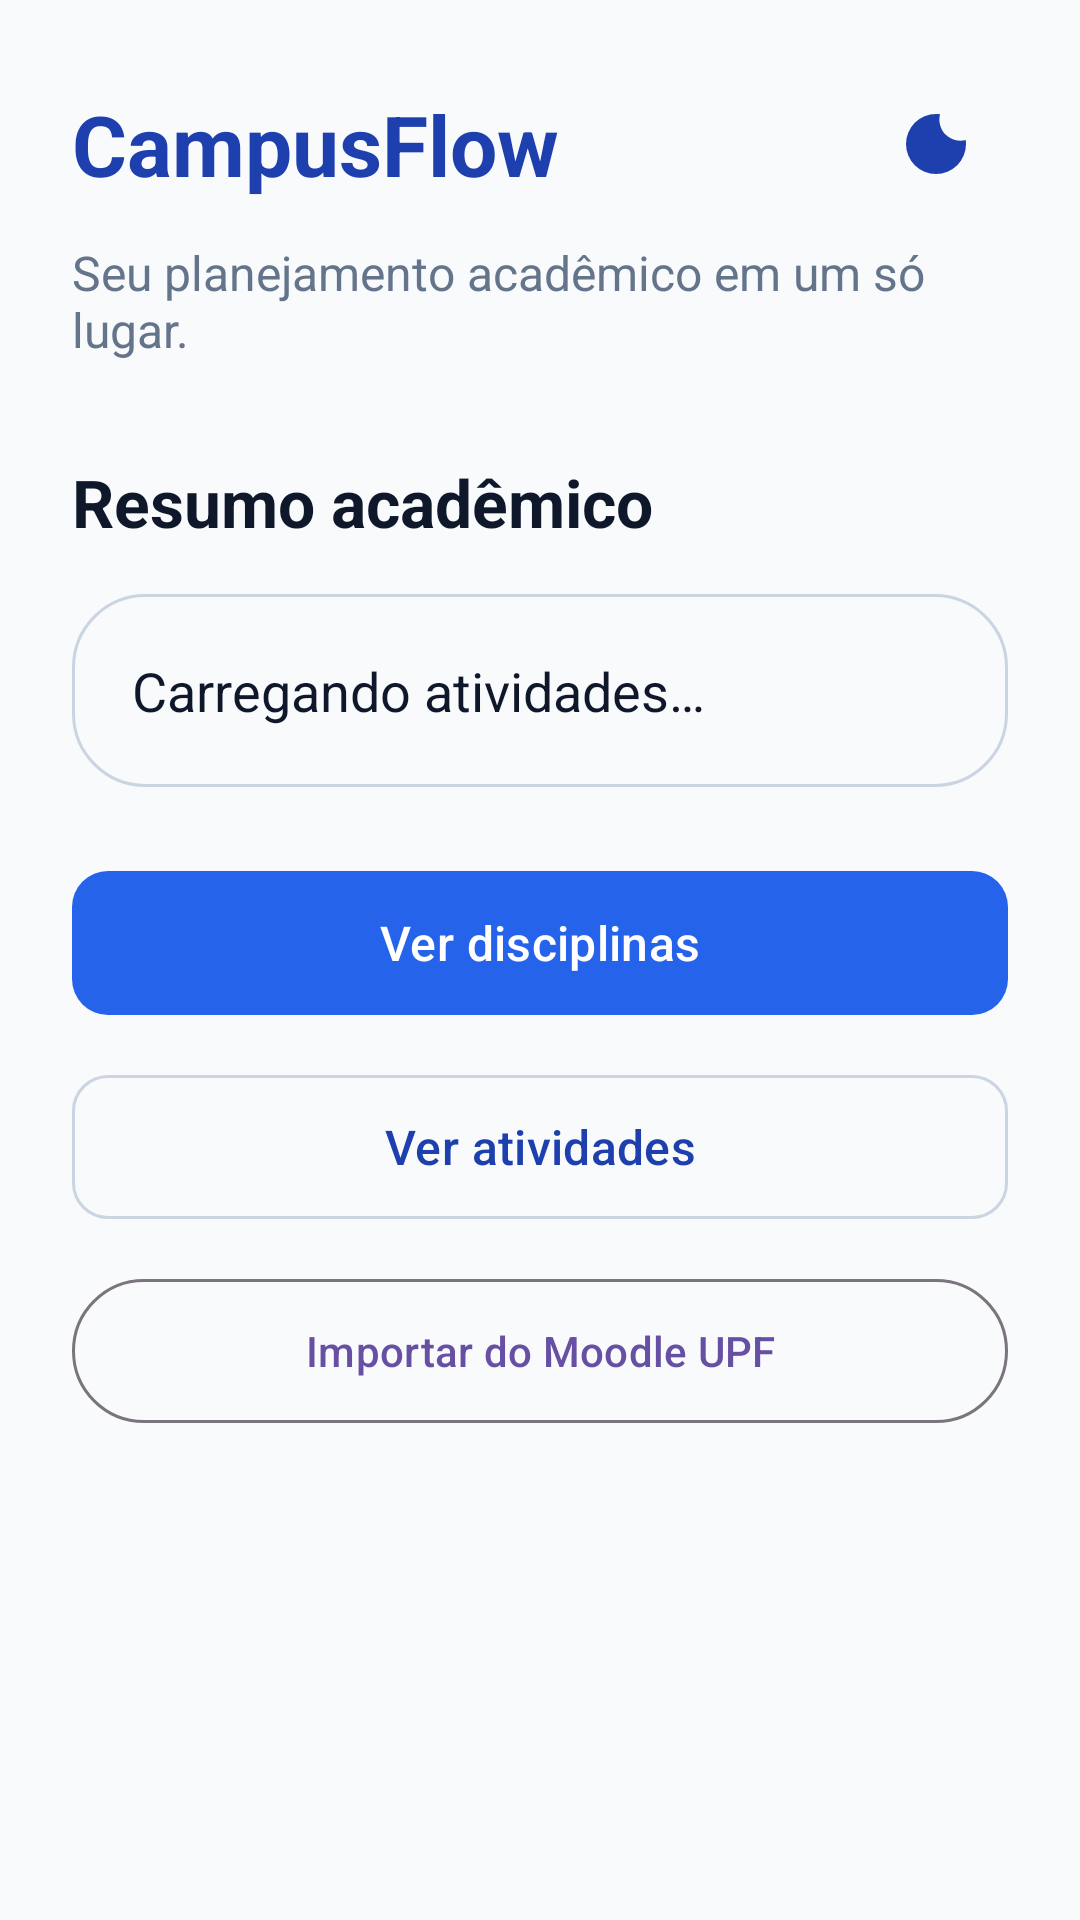

Icons on this 1080 × 1920 Android screen, each with its box as (x1, y1, x2, y2):
Ativar tema escuro: (906, 114, 966, 174)
